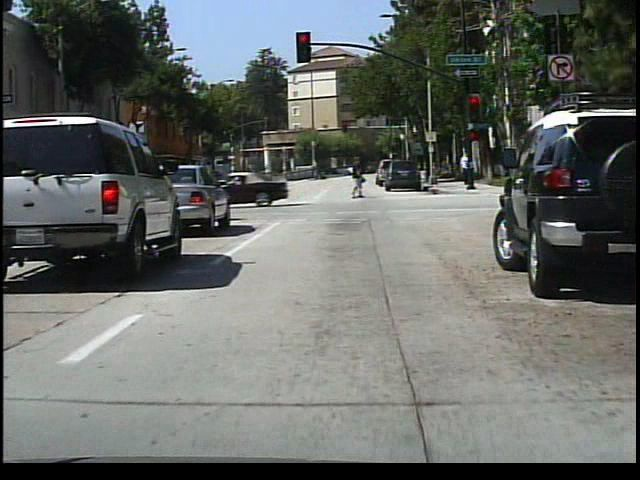person: (346, 159, 371, 201), (455, 149, 472, 190)
